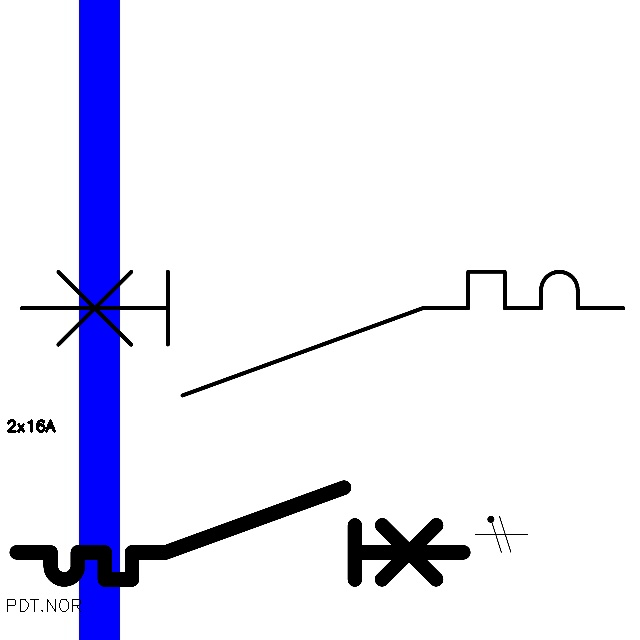interruptor_termomagnetico: (6, 256, 639, 411), (5, 476, 475, 591)
